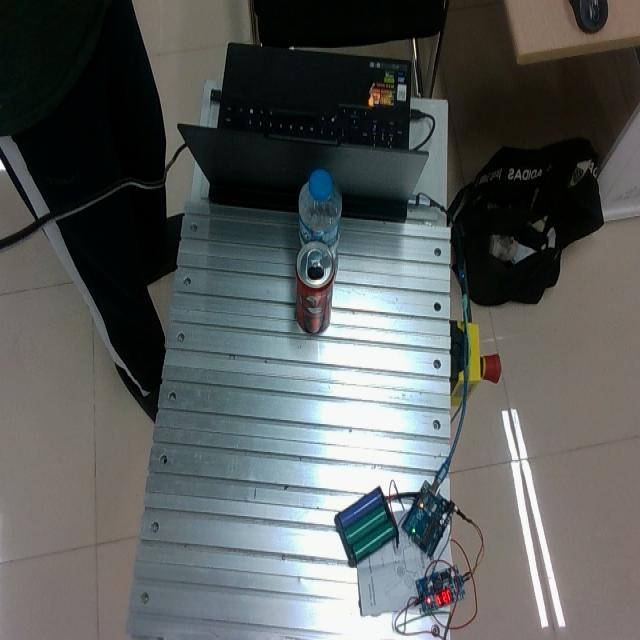coca: (295, 240, 337, 335)
lavie: (298, 168, 343, 273)
